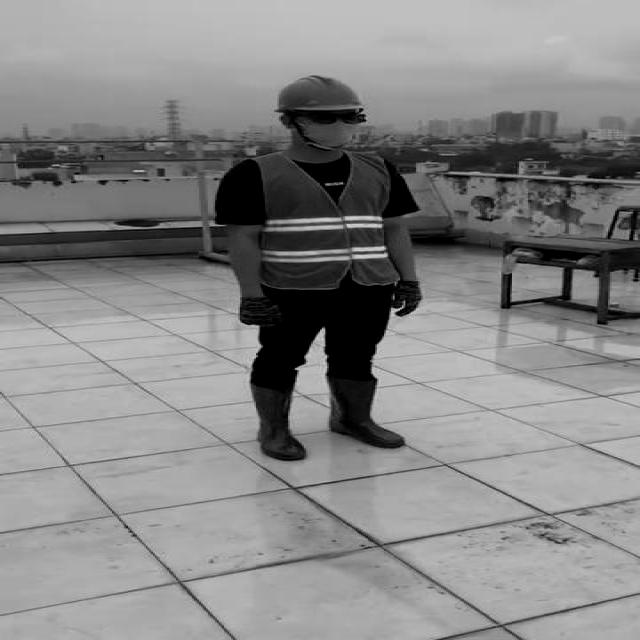boots: (322, 373, 419, 451), (246, 380, 305, 464)
face_mask: (296, 105, 367, 149)
glasses: (296, 106, 371, 129)
hand_glove: (226, 296, 284, 330), (398, 281, 423, 321)
head_helmet: (268, 72, 362, 115)
person: (207, 68, 438, 462)
vest: (245, 151, 400, 289)
